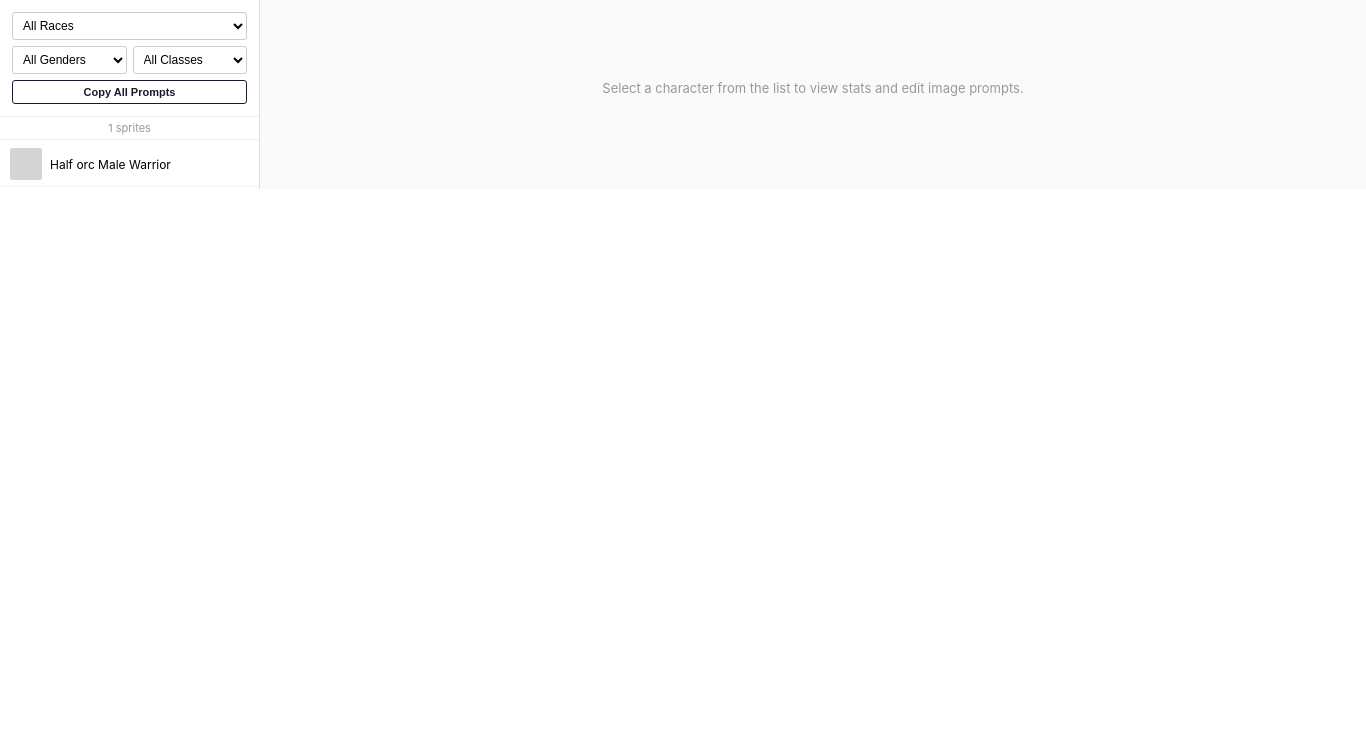
it: PcSpriteEditor › detail panel shows race stat modifiers
Expected: the text "1 sprites" is shown, [0, 117, 259, 140]
Click the text "Half orc Male Warrior".
click(110, 164)  # box [50, 156, 171, 172]
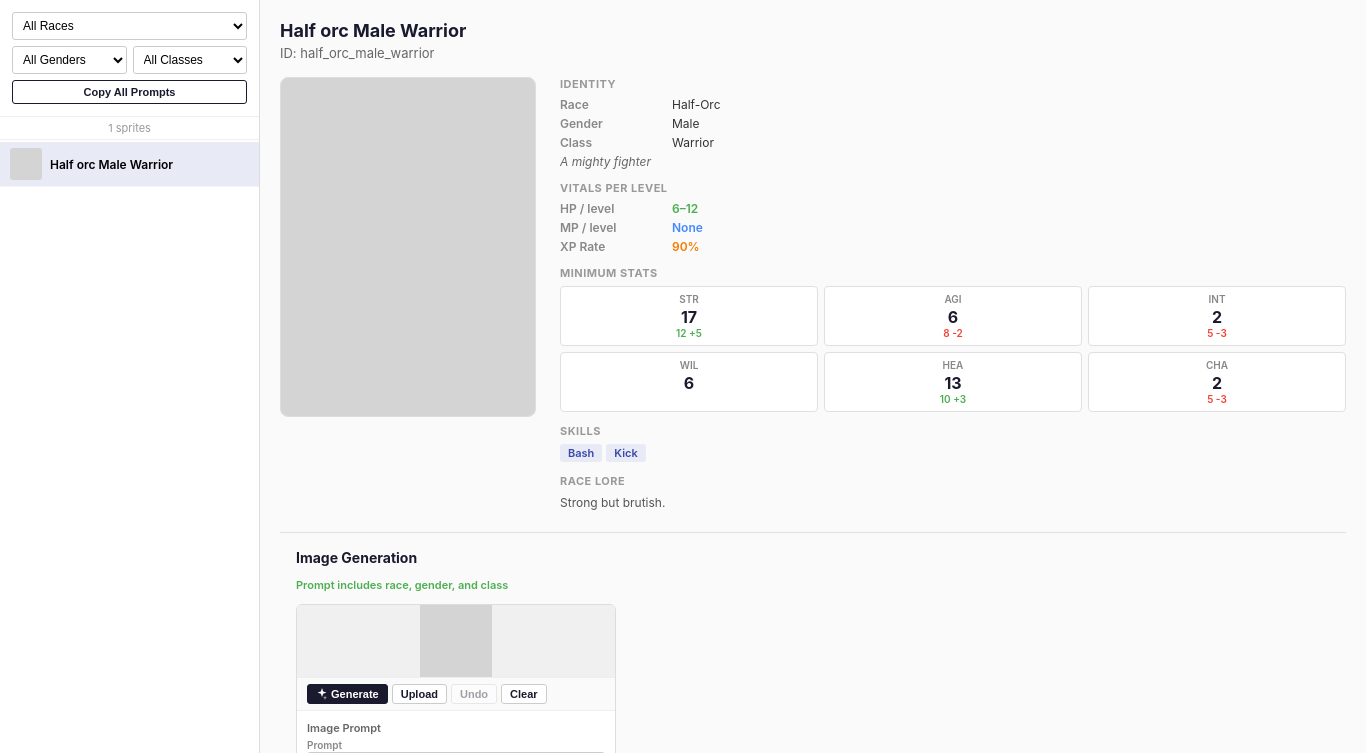
Result: the text "12 +5" is shown at [676, 327, 702, 339]
Result: the text "Strong but brutish." is shown at [560, 495, 665, 510]
Result: the text "Race Lore" is shown at [560, 474, 625, 488]
